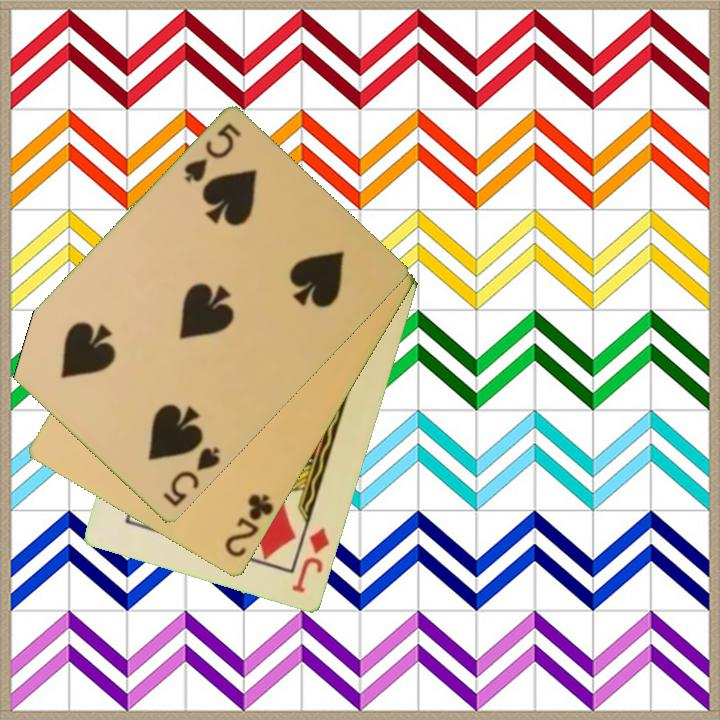2c: (221, 490, 277, 561)
5s: (180, 120, 244, 187), (159, 444, 223, 510)
Jd: (289, 525, 333, 597)
